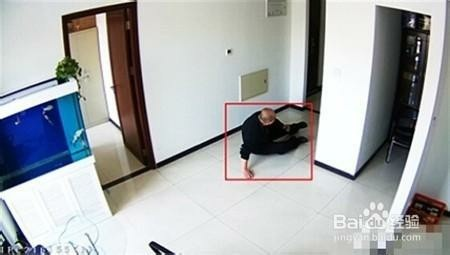falling: (234, 103, 313, 174)
